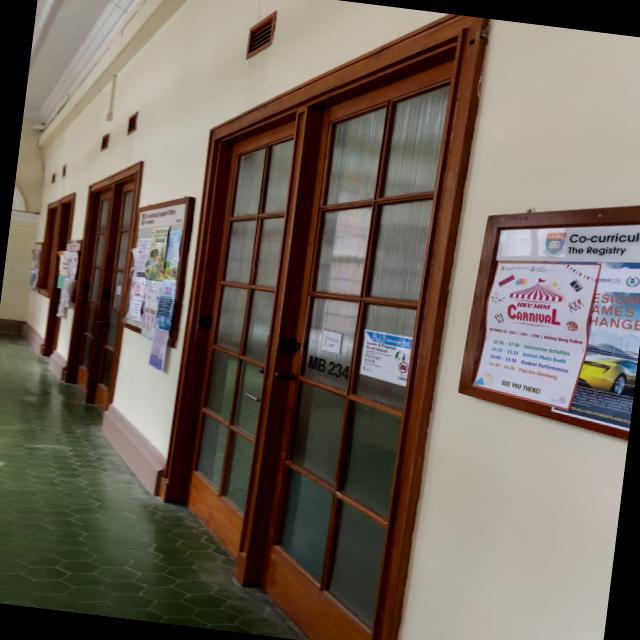room234Window: (304, 352, 351, 381)
